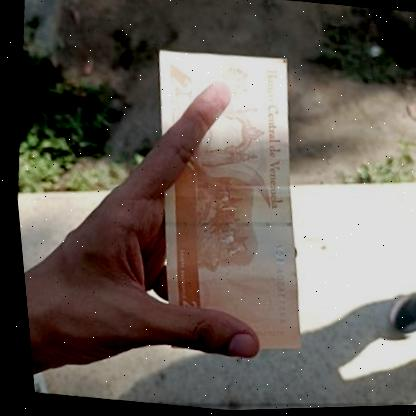twenty-back-vef: (122, 44, 326, 365)
